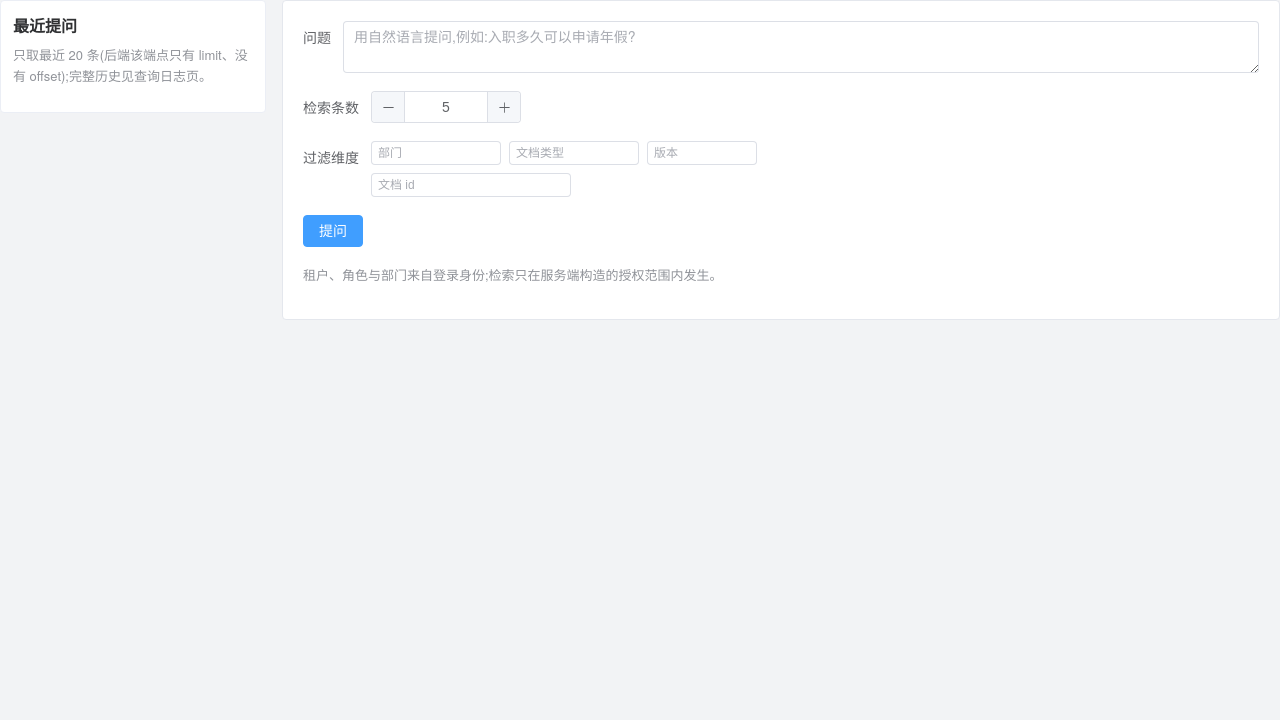
Test: 组件行为 › 问答页 › 有据回答渲染正文与引用列表
Type "年假怎么算?" into the text box with test id "chat-question" at [801, 47], box 343,21 -> 1259,73
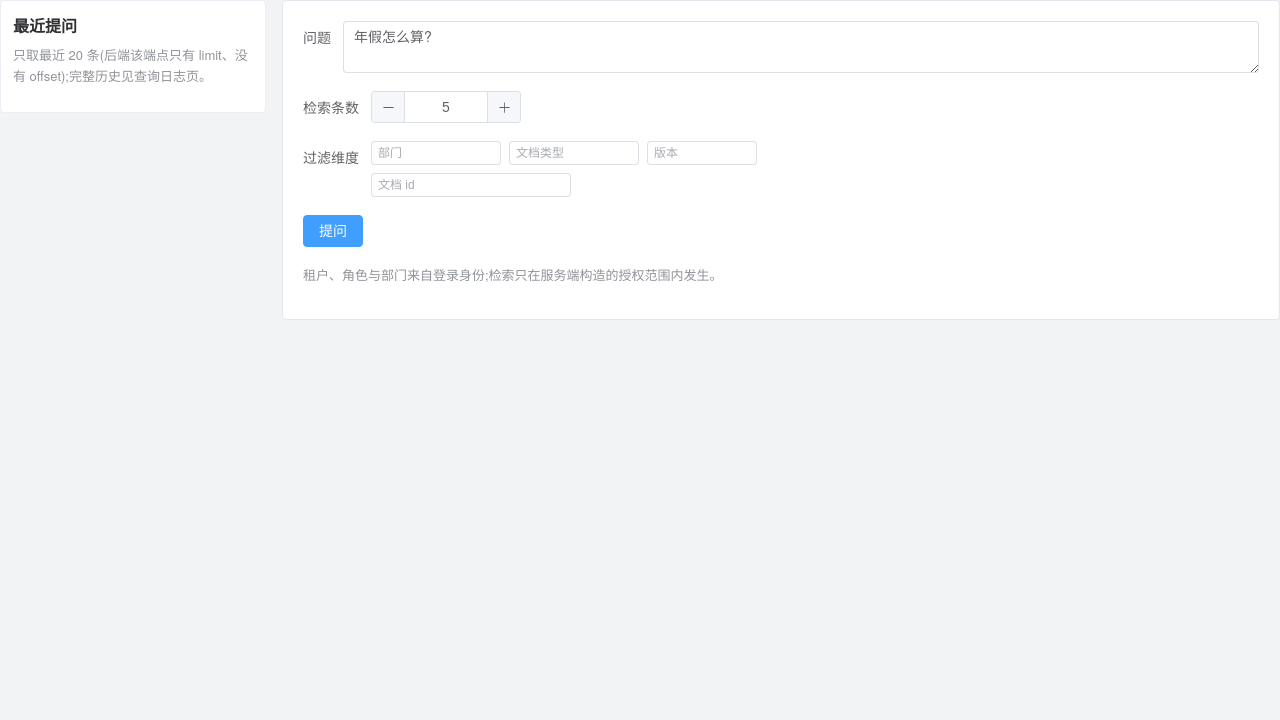
Click the button with test id "chat-submit" at [333, 231], box 303,215 -> 363,247
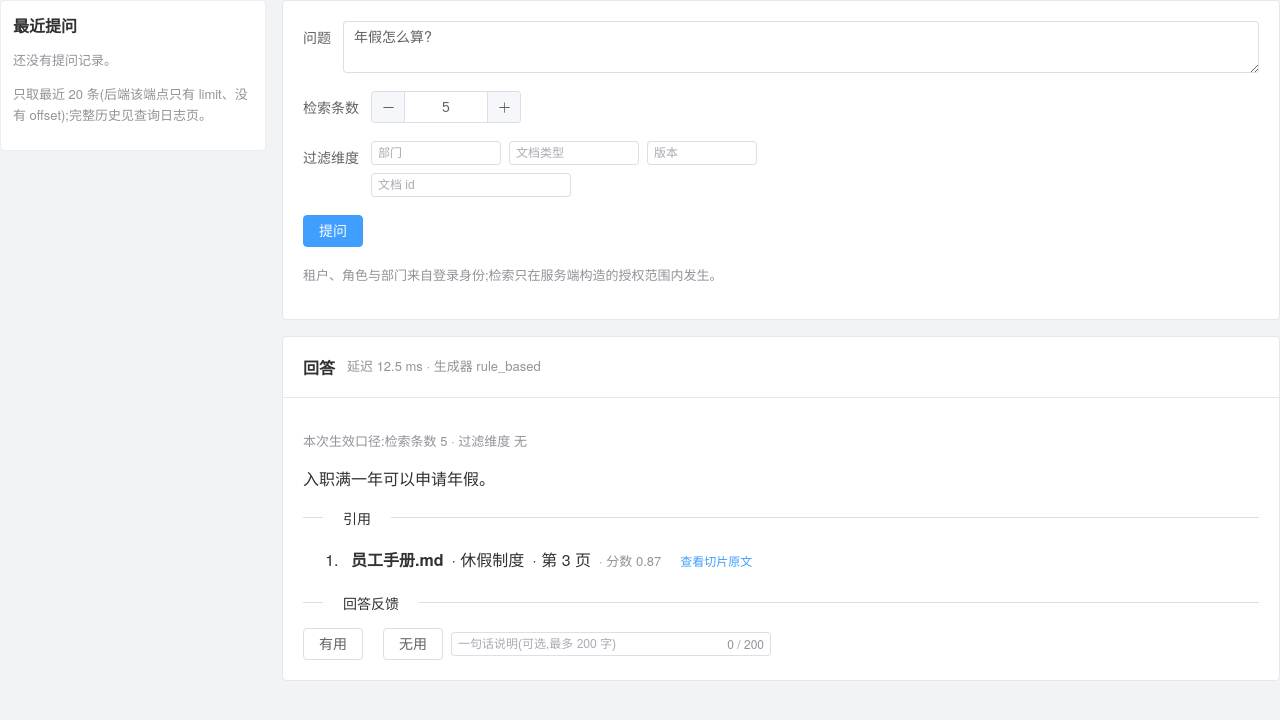
Expected: the element with test id "chat-answer" shows "入职满一年", 303,467 -> 495,490
Expected: the list with test id "chat-citations" is shown, 351,548 -> 763,574
Expected: the list with test id "chat-citations" shows "员工手册.md", 351,548 -> 444,571
